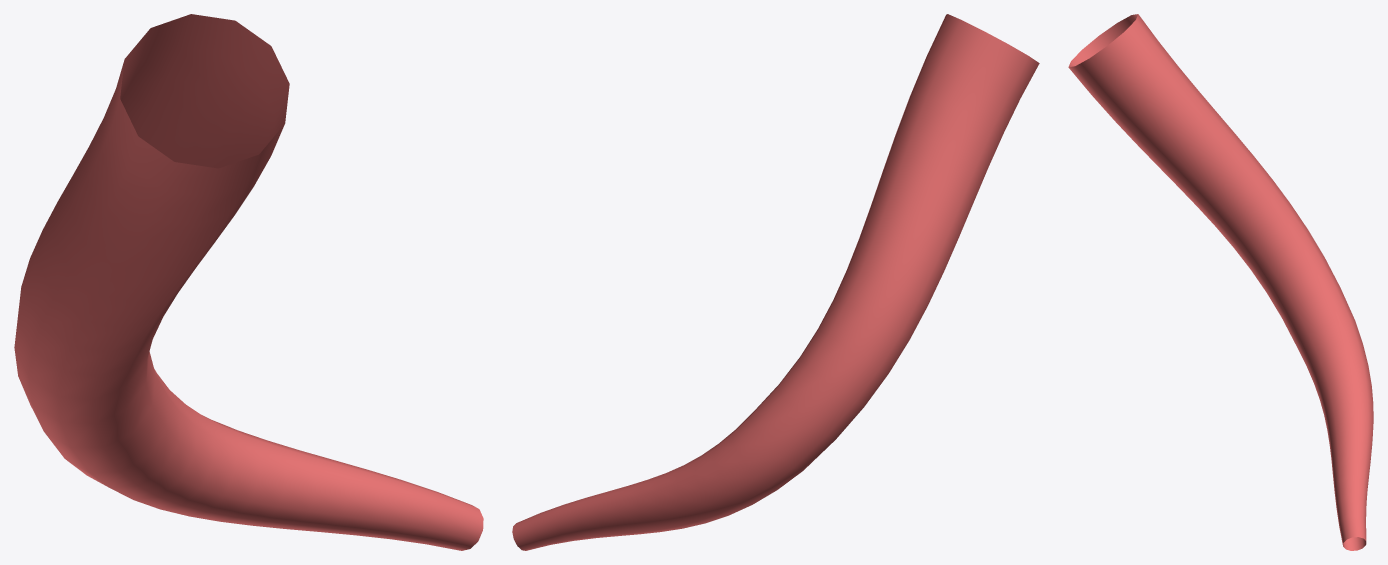
The model's file is Calcaneal_branches_fibular_artery_right.glb.
3 renders of one model, left to right at view 1: azimuth 30°, elevation 25°; view 2: azimuth 150°, elevation 25°; view 3: azimuth 270°, elevation 25°, orthographic. The views are drawn at different scales.
Parts seen in each view (by area): view 1: Calcaneal_branches_of_fibular_artery.r_BezierCurve.366; view 2: Calcaneal_branches_of_fibular_artery.r_BezierCurve.366; view 3: Calcaneal_branches_of_fibular_artery.r_BezierCurve.366.
Boxes of the visible parts, x1,y1,x2,y2 form: Calcaneal_branches_of_fibular_artery.r_BezierCurve.366: (14, 14, 483, 550); Calcaneal_branches_of_fibular_artery.r_BezierCurve.366: (512, 14, 1039, 550); Calcaneal_branches_of_fibular_artery.r_BezierCurve.366: (1068, 14, 1373, 550).
Bounding box in the file's own units: 0.00867 × 0.0113 × 0.00763.
